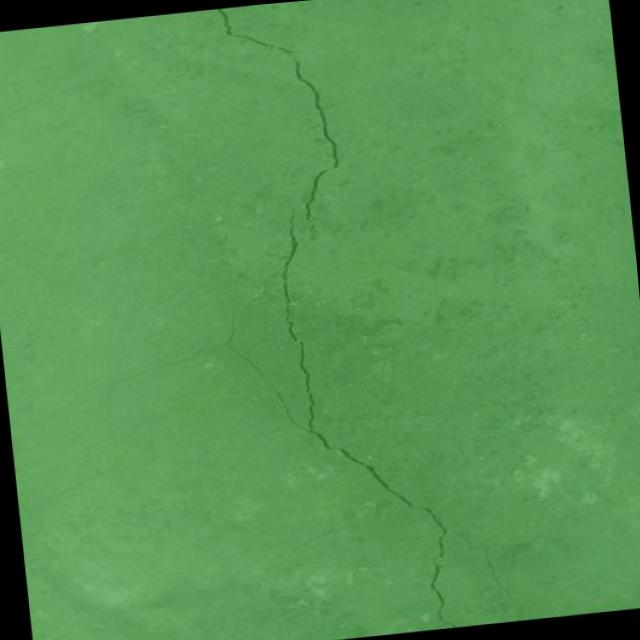crack: (98, 196, 457, 640), (214, 0, 347, 249), (484, 542, 526, 624)
